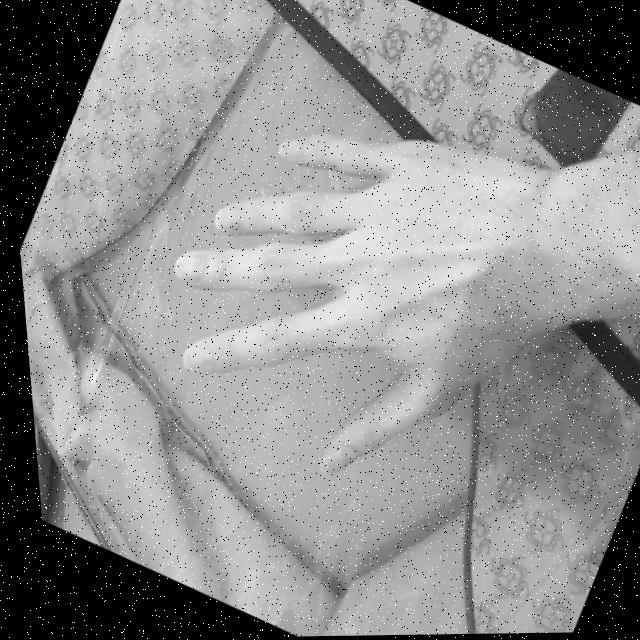no-gloves: (92, 32, 586, 528)
